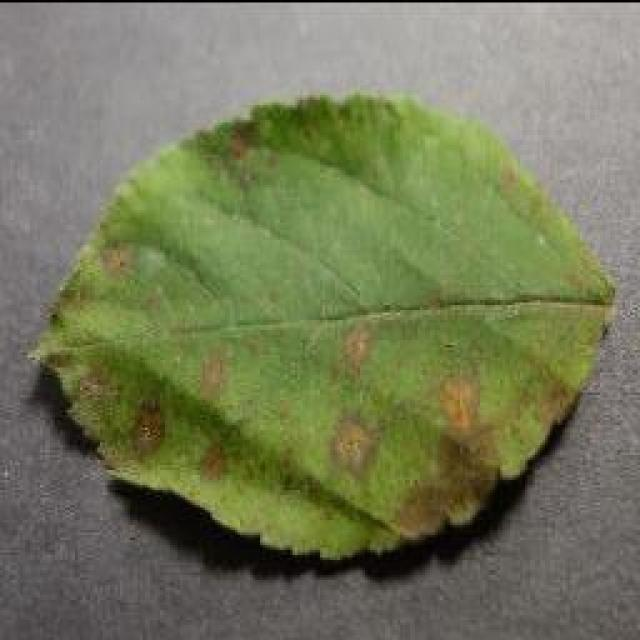apple healthy: (25, 88, 617, 562)
